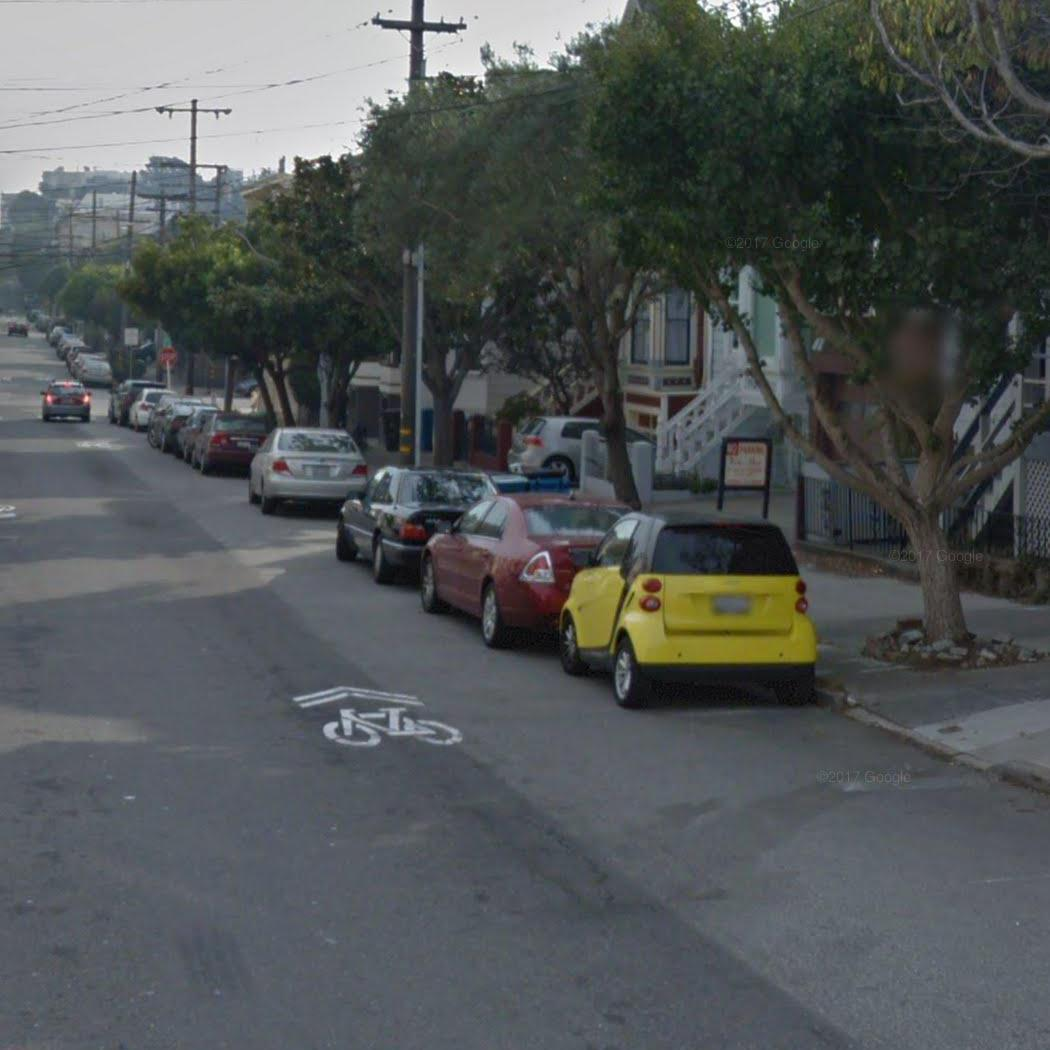No Parking: (721, 440, 772, 489)
